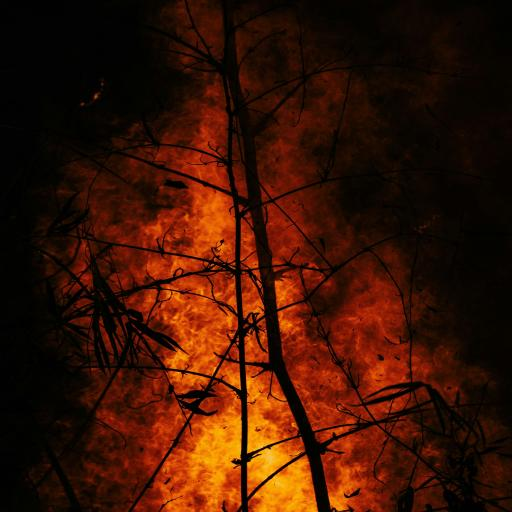wildfire: (0, 5, 512, 512)
